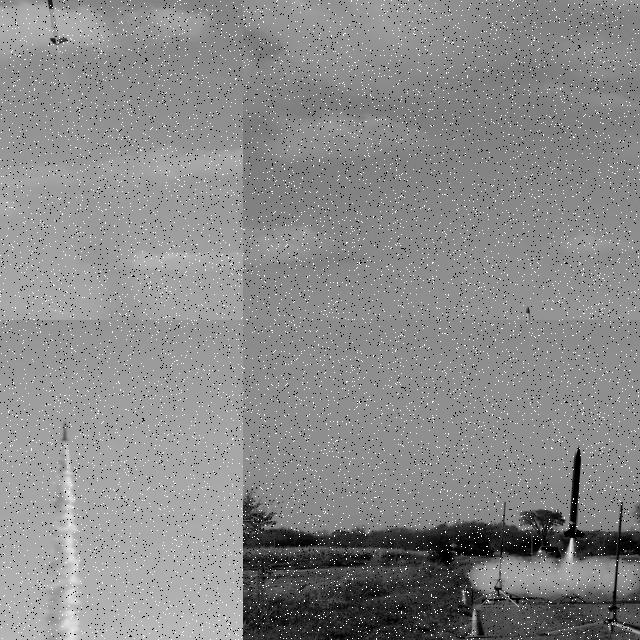Rocket: (564, 445, 586, 539), (46, 0, 68, 45), (60, 419, 70, 442), (525, 305, 538, 320)
